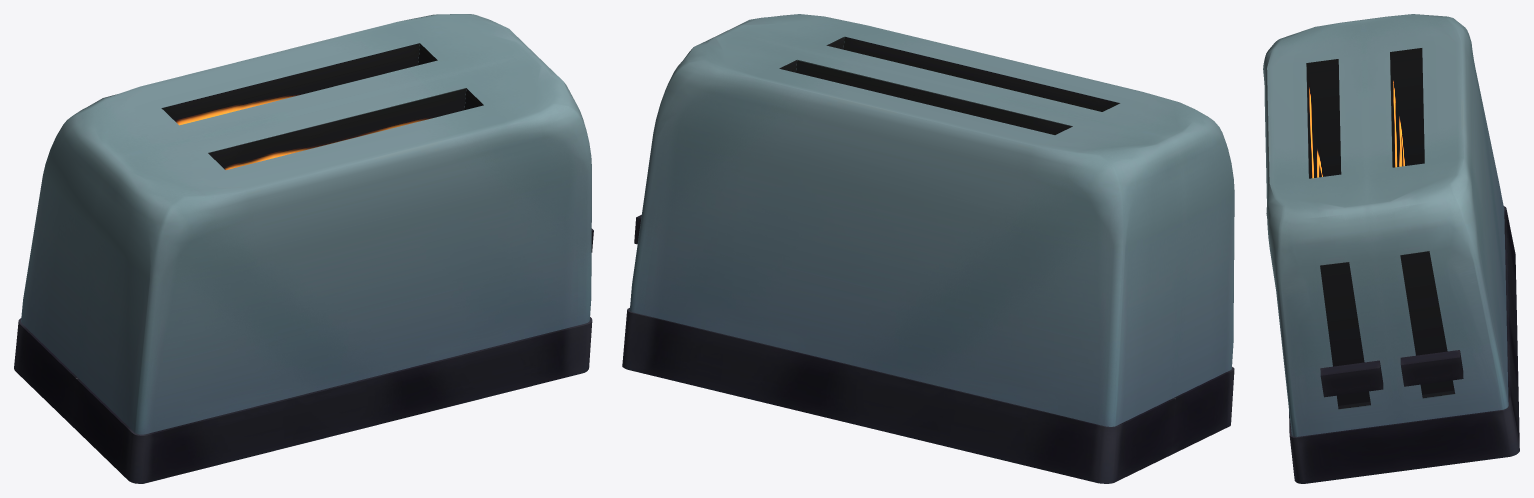
The model's file is stylized_toaster_-_download.glb.
The picture shows the model from 3 angles, left to right: view 1: azimuth 30°, elevation 25°; view 2: azimuth 150°, elevation 25°; view 3: azimuth 270°, elevation 25°; orthographic projection. The views are drawn at different scales.
Parts seen in each view (by area): view 1: Cube; view 2: Cube; view 3: Cube.
Boxes of the visible parts, x1=… form: Cube: x1=14, y1=14, x2=593, y2=483; Cube: x1=622, y1=14, x2=1234, y2=483; Cube: x1=1263, y1=14, x2=1519, y2=483.
Bounding box in the file's own units: 357 × 219 × 181.
Materials: 1 (1 with a texture image).
